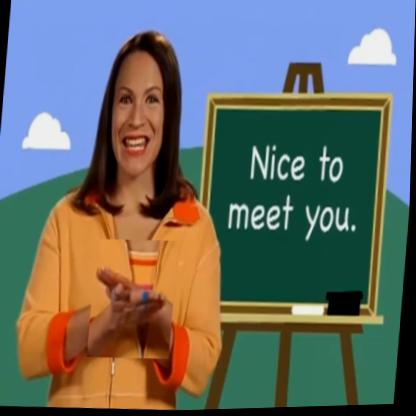NiceToMeetYou: (89, 238, 180, 362)
